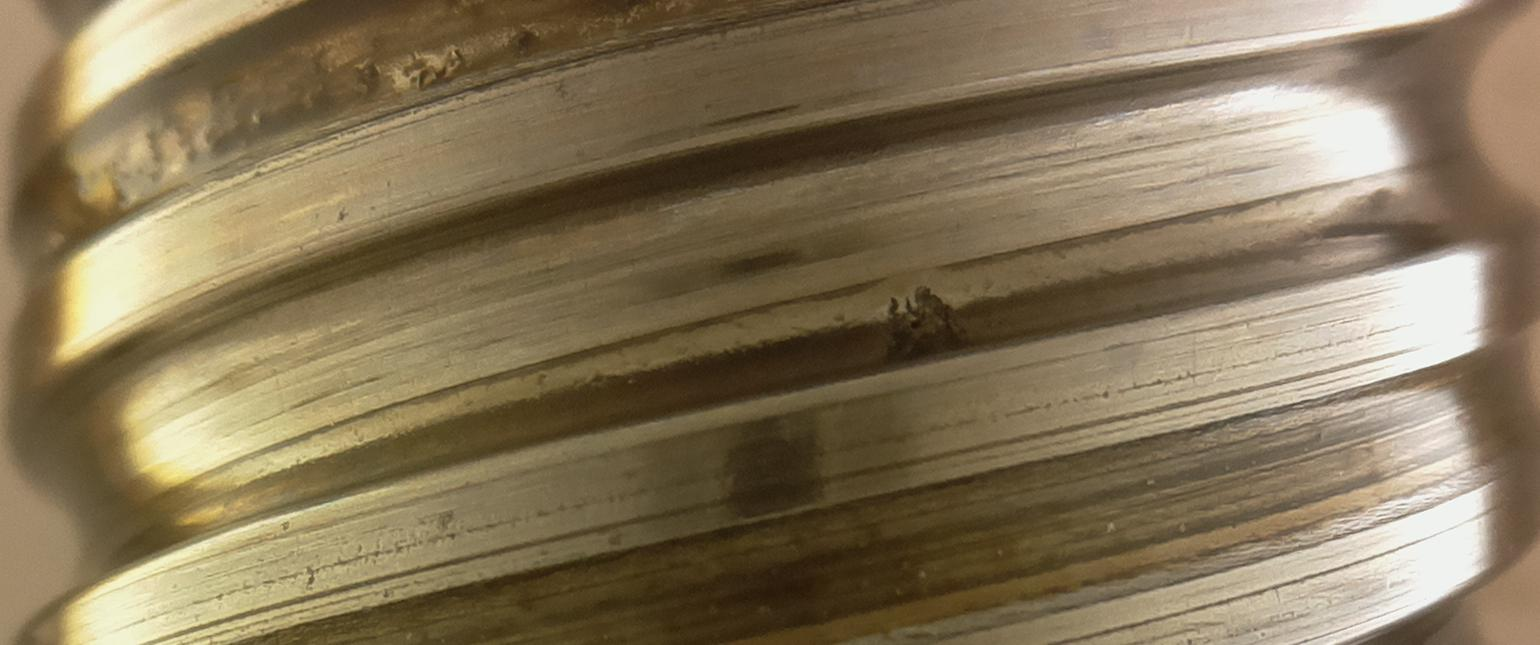pitting: (887, 286, 964, 366)
